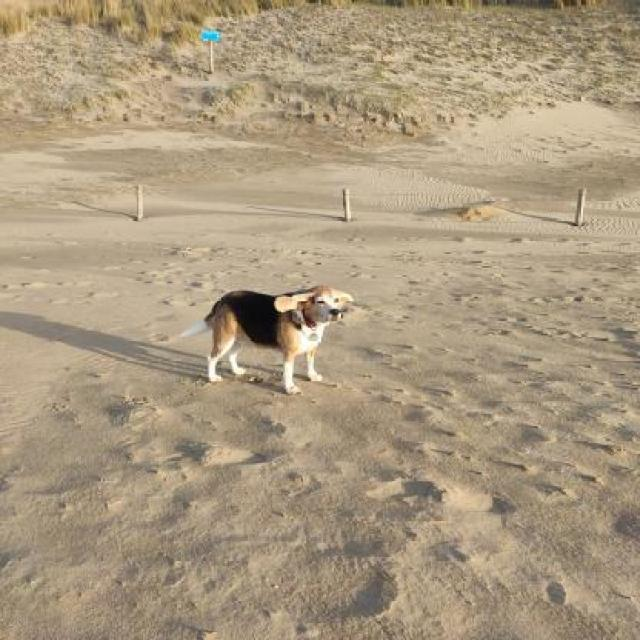Dog: (177, 283, 357, 402)
